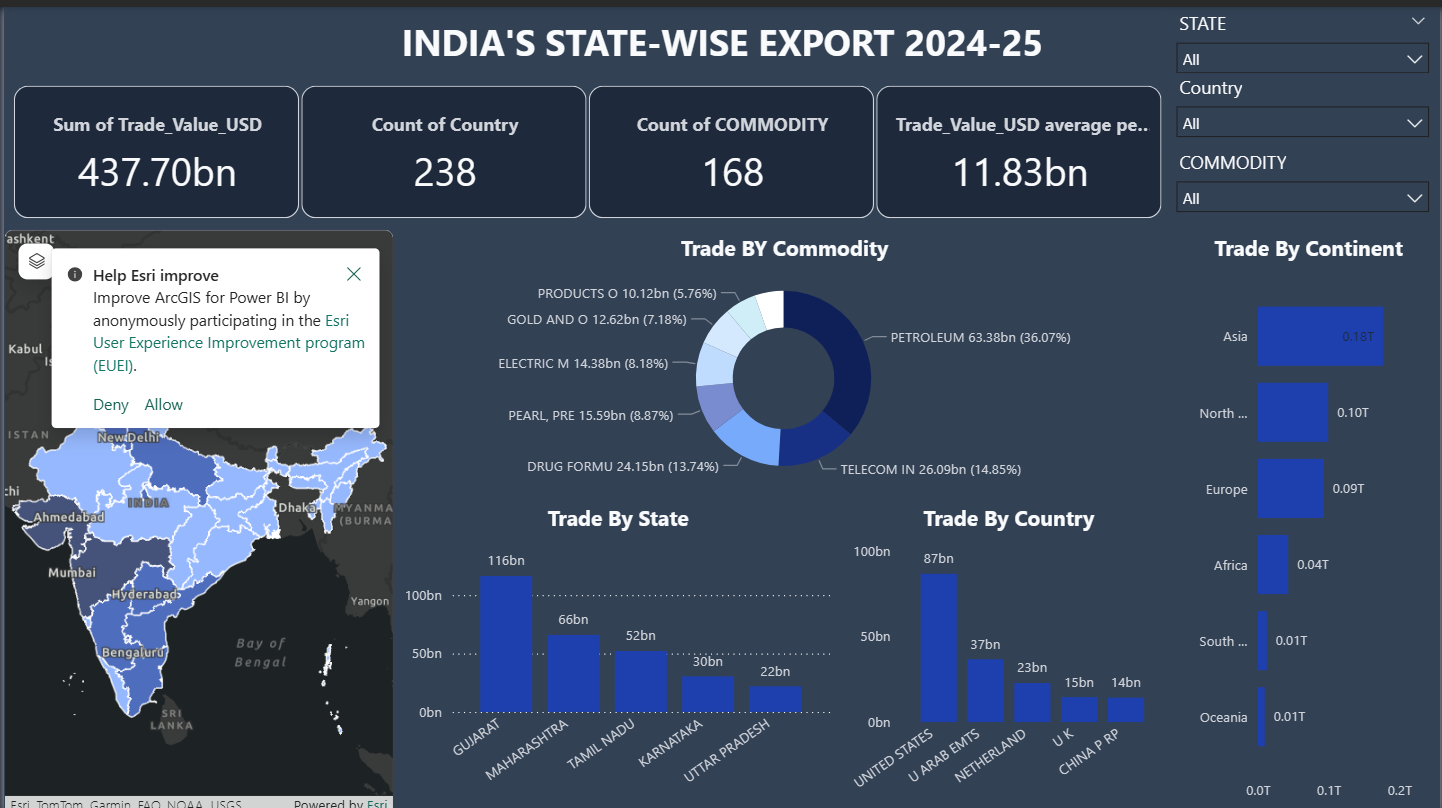

This screenshot's page, from the dashboard's own definition file:
{"tool":"powerbi","page":{"name":"2025 State-wise","canvas":[1280,720],"ordinal":2},"visuals":[{"type":"cardVisual","fields":{"Data":["Sum(export state_exports_25.Trade_Value_USD)","Count(export state_exports_25.Country)","Count(export state_exports_25.COMMODITY)","export fy16_26.Trade_Value_USD average per STATE"]},"box":[0,61.6,1041.9,136],"z":0},{"type":"textbox","box":[0,0,1280,61.5],"z":1000},{"type":"esriVisual","fields":{"Location":["export state_exports_25.STATE"],"Color":["Sum(export state_exports_25.Trade_Value_USD)"]},"box":[0,197.9,347.5,522.4],"z":2000},{"type":"columnChart","title":"Trade By State","fields":{"Category":["export state_exports_25.STATE"],"Y":["Sum(export state_exports_25.Trade_Value_USD)"]},"box":[347.7,438.4,397.7,281.4],"z":3000},{"type":"donutChart","title":"Trade BY Commodity","fields":{"Category":["export state_exports_25.Short_Commodity"],"Y":["Sum(export state_exports_25.Trade_Value_USD)"]},"box":[347.7,197.7,694.2,240.7],"z":4000},{"type":"columnChart","title":"Trade By Country","fields":{"Category":["export state_exports_25.Country"],"Y":["Sum(export state_exports_25.Trade_Value_USD)"]},"box":[745.4,438.4,296.5,281.4],"z":5000},{"type":"clusteredBarChart","title":"Trade By Continent","fields":{"Category":["export state_exports_25.Continents"],"Y":["Sum(export state_exports_25.Trade_Value_USD)"]},"box":[1041.9,197.7,238.4,522.1],"z":6000},{"type":"slicer","fields":{"Values":["export state_exports_25.STATE"]},"box":[1033.5,2.3,246.5,73.3],"z":7000},{"type":"slicer","fields":{"Values":["export state_exports_25.Country"]},"box":[1033.5,59.3,246.5,73.3],"z":8000},{"type":"slicer","fields":{"Values":["export state_exports_25.COMMODITY"]},"box":[1033.5,125.6,246.5,73.3],"z":9000}]}

Visuals, with their boxes in screenshot pixels (x1, y1, x2, y2), scaled from the page's 1280x720 canvas onto the 1442x808 screenshot:
cardVisual - Sum(export state_exports_25.Trade_Value_USD) x Count(export state_exports_25.Country): <bbox>0, 69, 1174, 222</bbox>
textbox: <bbox>0, 0, 1441, 69</bbox>
esriVisual - export state_exports_25.STATE x Sum(export state_exports_25.Trade_Value_USD): <bbox>0, 222, 391, 807</bbox>
"Trade By State" columnChart: <bbox>392, 492, 840, 807</bbox>
"Trade BY Commodity" donutChart: <bbox>392, 222, 1174, 492</bbox>
"Trade By Country" columnChart: <bbox>840, 492, 1174, 807</bbox>
"Trade By Continent" clusteredBarChart: <bbox>1174, 222, 1441, 807</bbox>
slicer - export state_exports_25.STATE: <bbox>1164, 3, 1441, 85</bbox>
slicer - export state_exports_25.Country: <bbox>1164, 67, 1441, 149</bbox>
slicer - export state_exports_25.COMMODITY: <bbox>1164, 141, 1441, 223</bbox>
